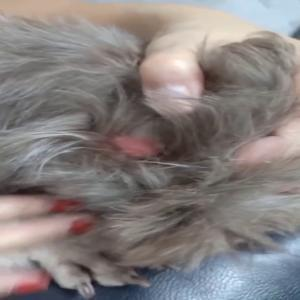skin_lesions: (108, 132, 169, 163)
